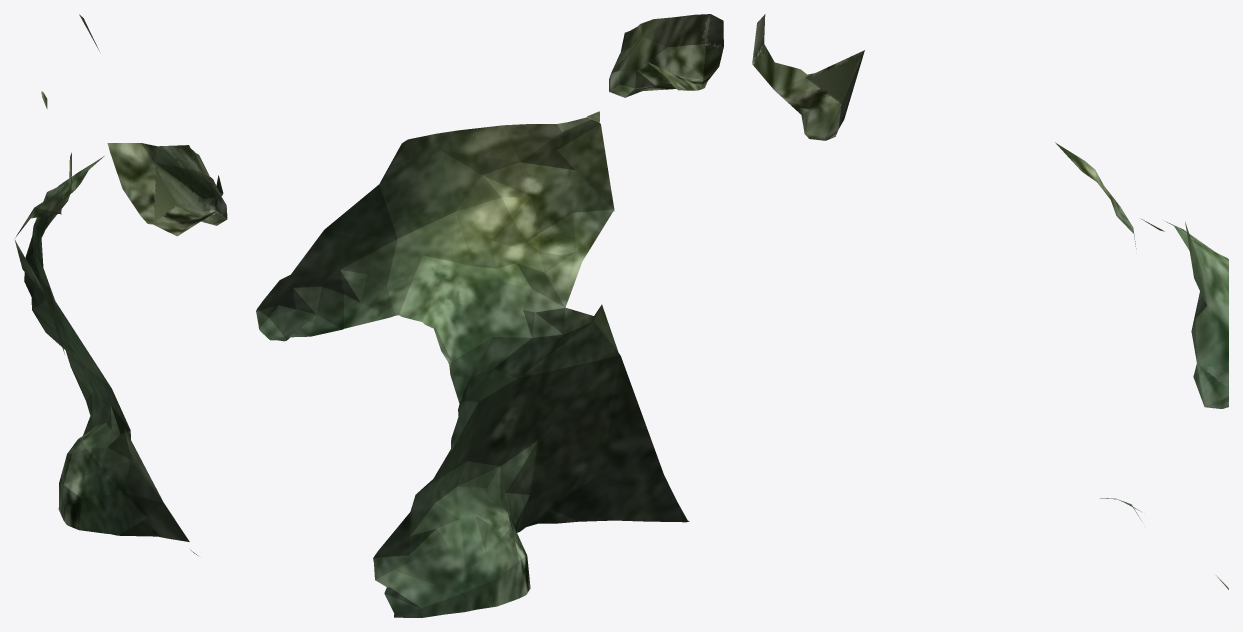
3 views of the same model, side by side, from view 1: azimuth 30°, elevation 25°; view 2: azimuth 150°, elevation 25°; view 3: azimuth 270°, elevation 25° (orthographic). The views are drawn at different scales.
Size of the model in its own units: 1.69 by 2.95 by 2.38.
Materials: 2 (2 with a texture image).
